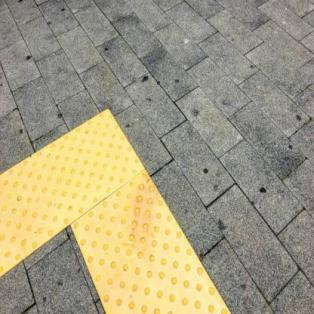Podoctatil: (0, 88, 247, 314)
